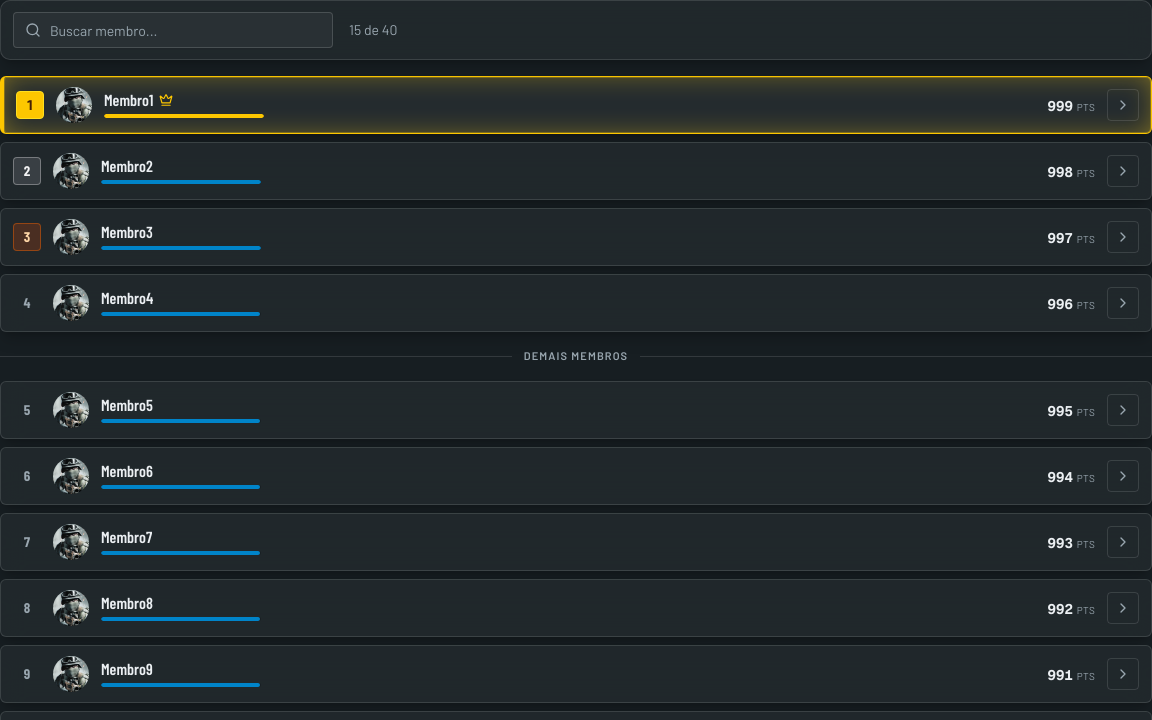
Test: RankingList › says so when the search matches nobody
Type "ninguem" into the search field labelled "Buscar membro..." at (173, 30), box [13,12,333,48]
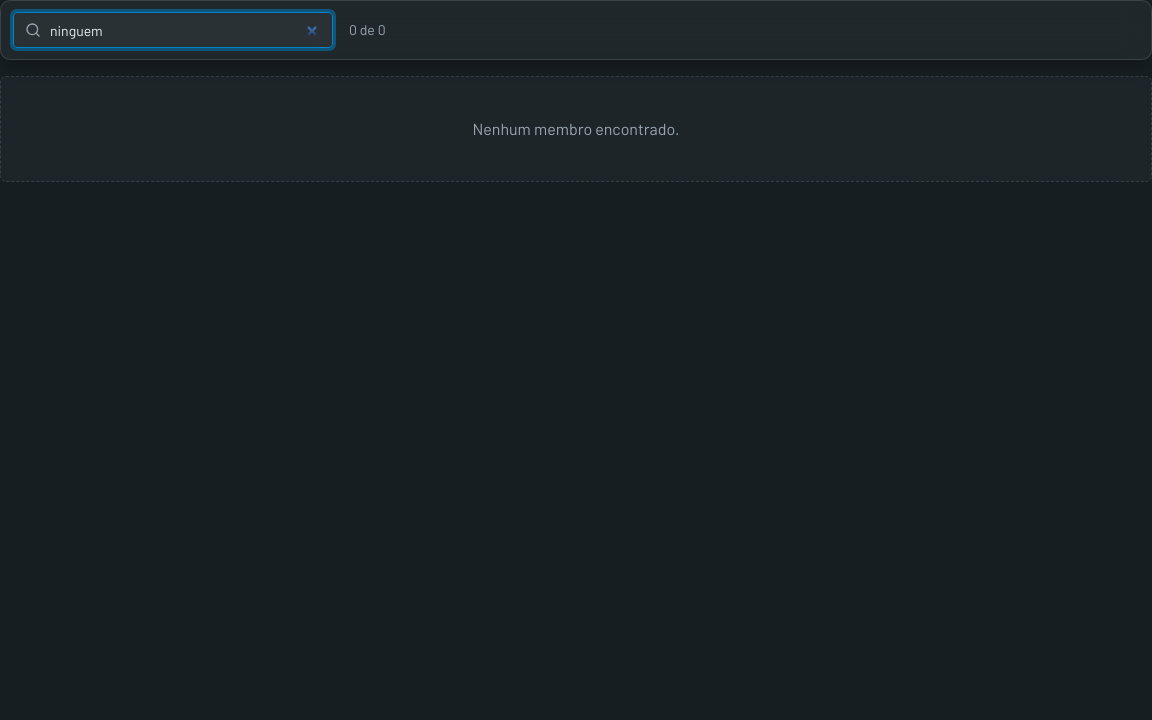
Check: the text "Nenhum membro encontrado." is shown, box [0,76,1151,182]
Check: the message reads "0 de 0", box [349,20,386,40]
